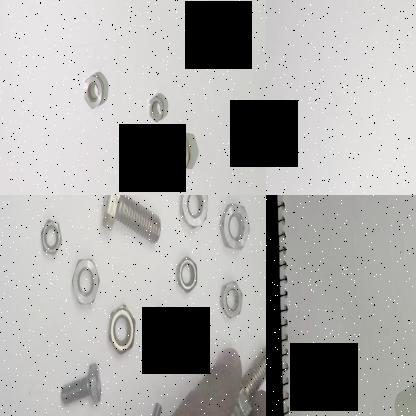Bolts: (96, 195, 166, 246), (52, 363, 110, 409)
NUTS: (68, 252, 100, 314), (107, 298, 139, 358), (219, 195, 249, 259), (36, 215, 68, 265), (144, 305, 176, 352), (217, 270, 245, 322), (175, 195, 210, 234), (166, 128, 192, 178), (172, 252, 196, 298), (80, 71, 104, 112), (146, 92, 166, 124)
